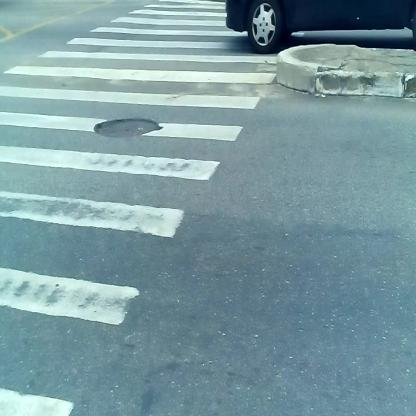crosswalk: (8, 6, 268, 416)
sidewalk: (280, 50, 416, 106)
